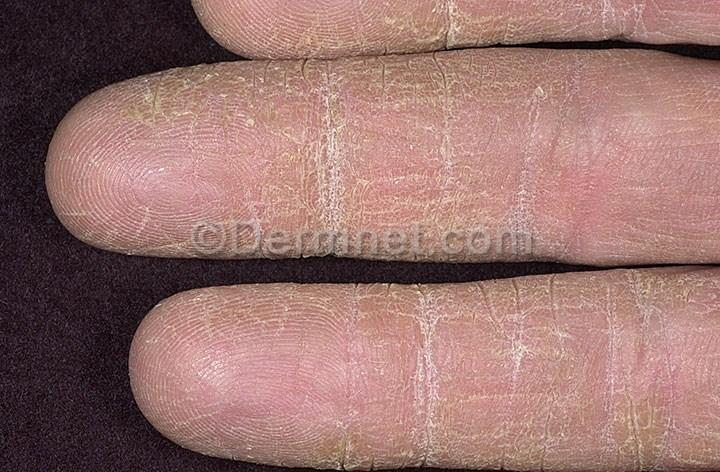Eczema: (173, 291, 700, 471), (114, 77, 631, 218), (212, 0, 685, 70)
